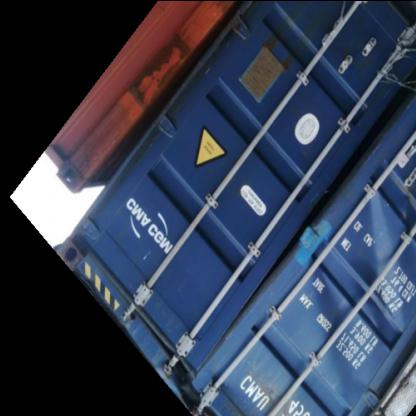Damage: (296, 84, 410, 406), (165, 361, 233, 415)
